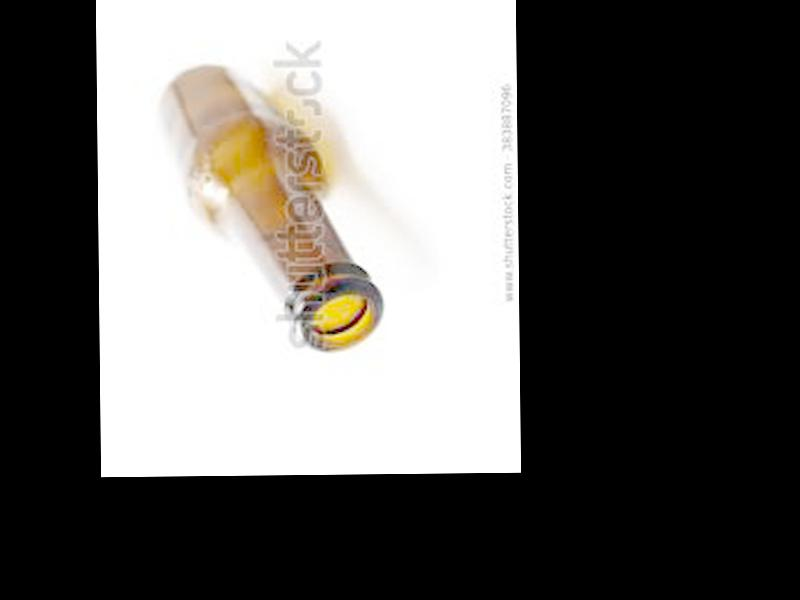Beer: (159, 62, 386, 355)
